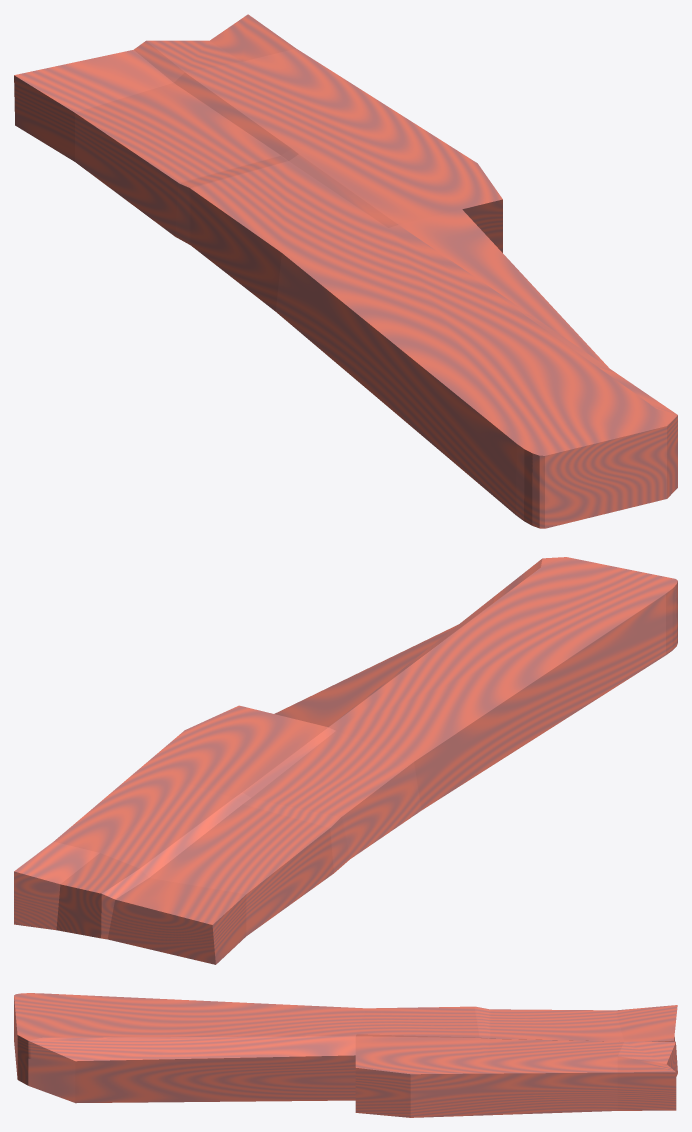
File: Plank4.glb
3 views of the same model, one above another, from view 1: azimuth 30°, elevation 25°; view 2: azimuth 150°, elevation 25°; view 3: azimuth 270°, elevation 25° (orthographic). The views are drawn at different scales.
Parts seen in each view (by area): view 1: Cube.001; view 2: Cube.001; view 3: Cube.001.
Part boxes in pixels (x1,y1,x2,y2): Cube.001: (14, 14, 677, 528); Cube.001: (14, 557, 677, 964); Cube.001: (14, 993, 677, 1117).
Bounding box in the file's own units: 0.6038 × 0.2171 × 2.14.
Materials: 1 (1 with a texture image).
